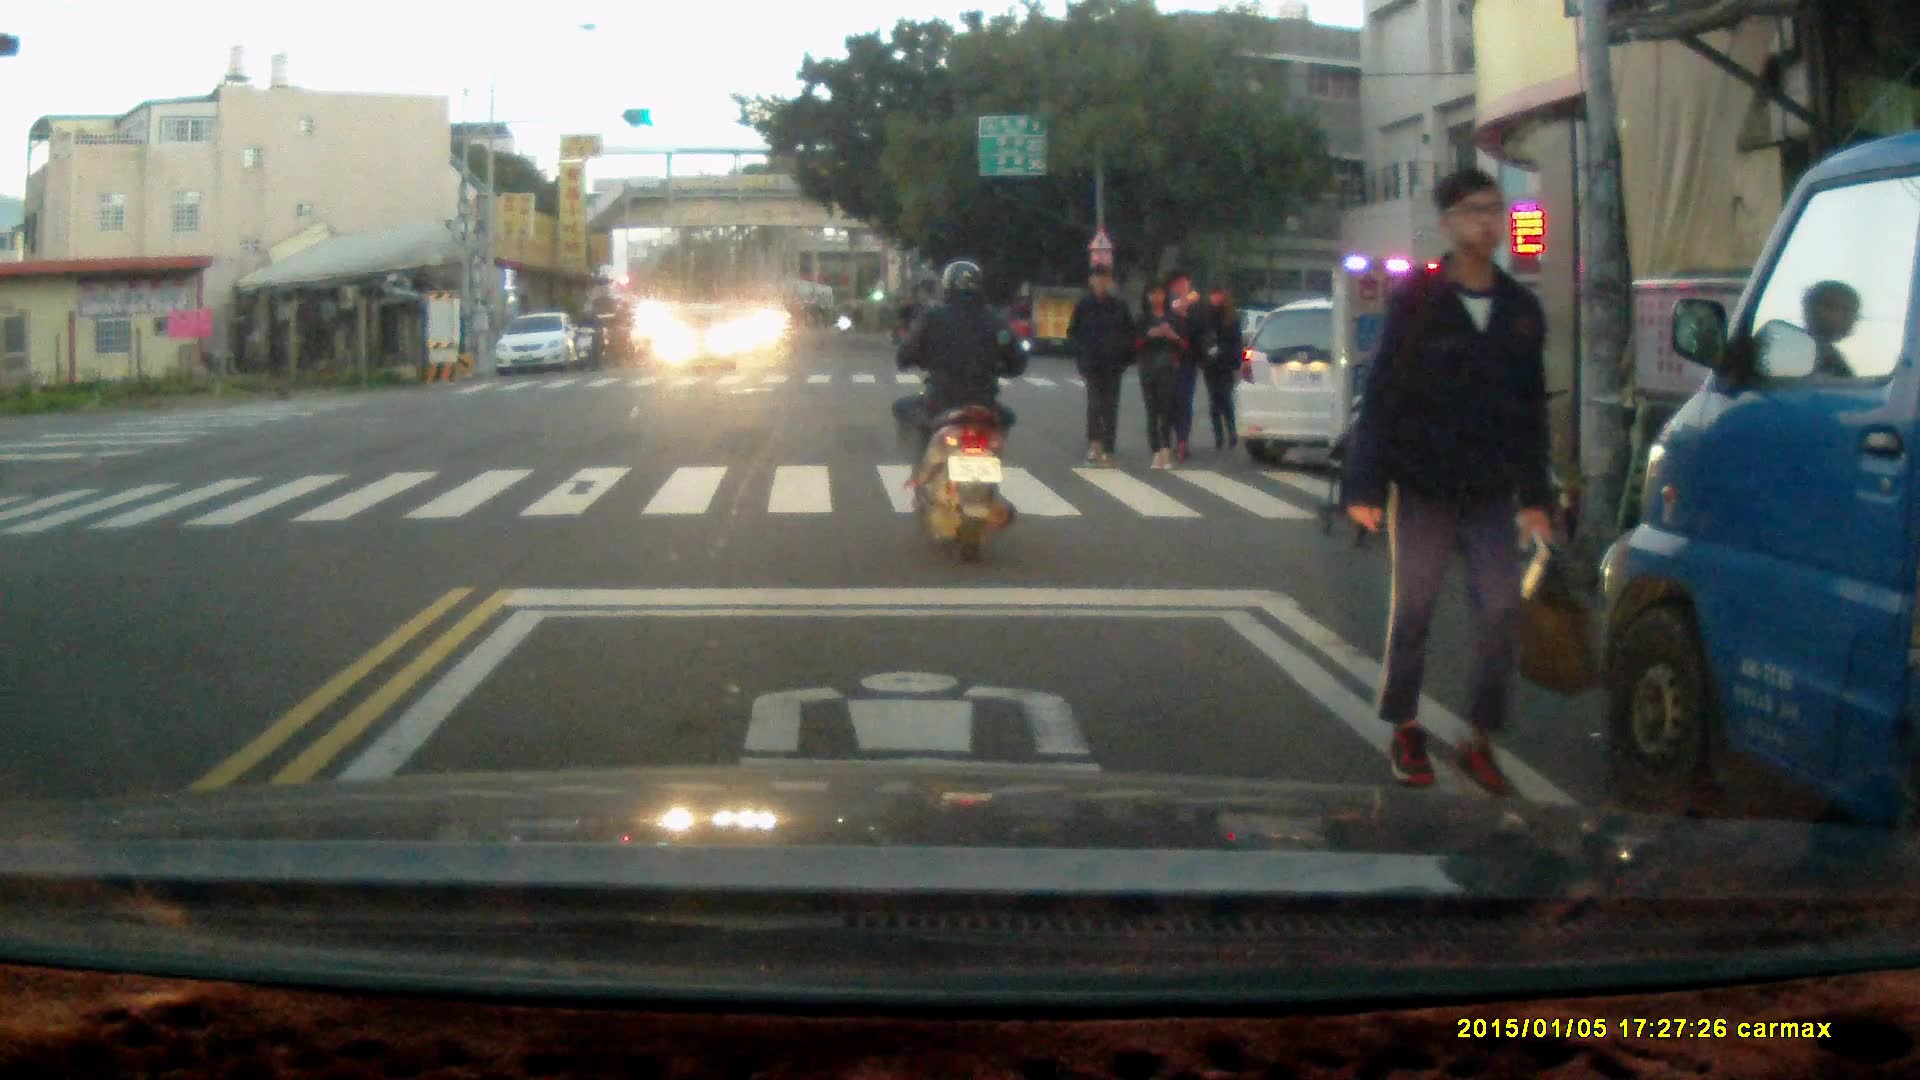pedestrian: (1346, 190, 1567, 813), (1065, 261, 1131, 465), (1131, 280, 1190, 475), (1162, 266, 1206, 464), (1195, 283, 1245, 456)
rider: (889, 258, 1028, 566), (602, 295, 636, 370), (572, 298, 604, 373)
vehicle: (1596, 126, 1920, 896), (1243, 303, 1551, 467), (648, 295, 741, 371), (493, 311, 584, 378)
